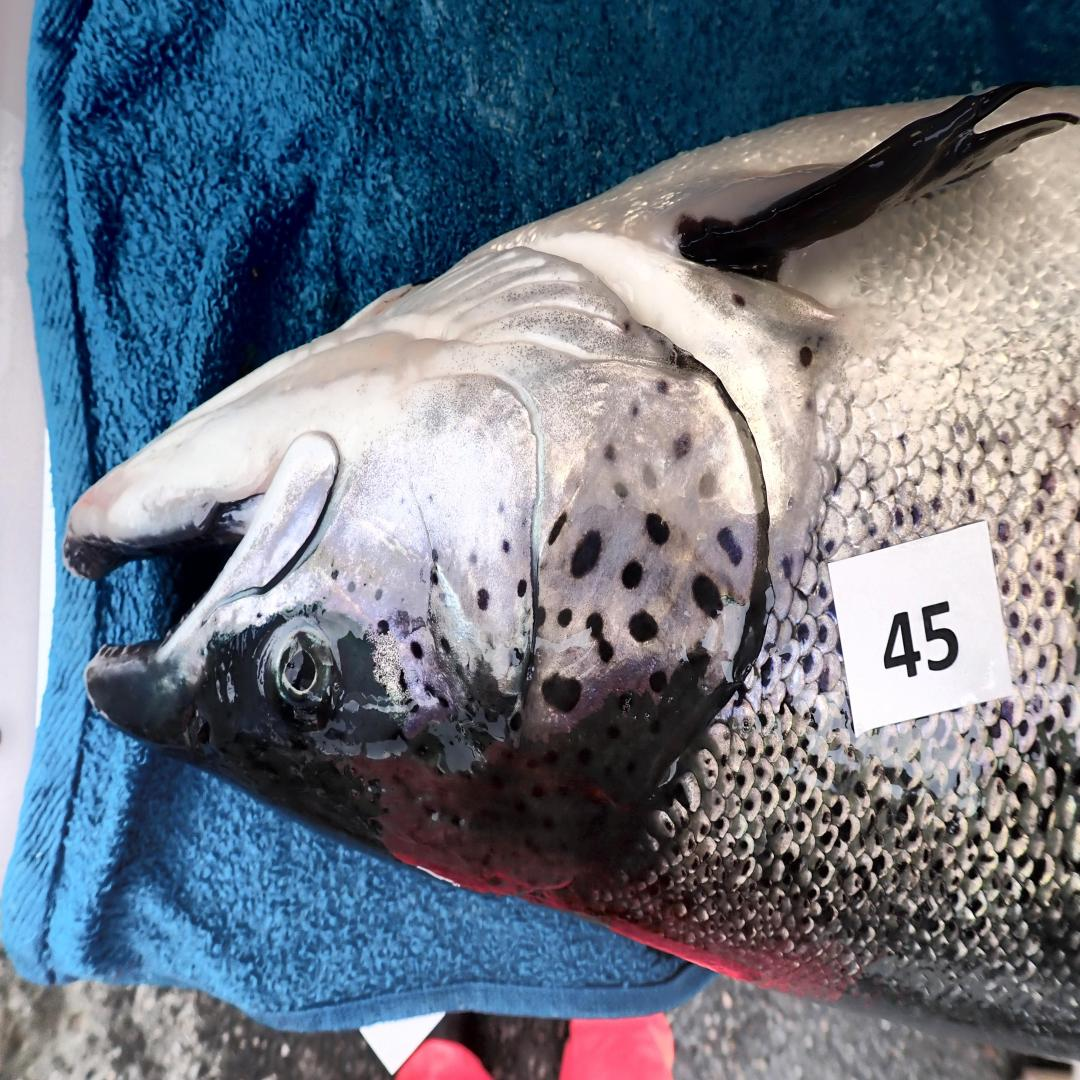spot: (542, 672, 582, 712), (572, 529, 601, 579), (692, 574, 724, 619), (586, 613, 614, 664), (680, 649, 710, 682), (717, 526, 742, 565), (629, 610, 658, 641), (645, 512, 671, 546), (548, 512, 567, 546), (424, 684, 449, 708), (622, 560, 643, 588), (698, 470, 717, 498), (673, 433, 692, 458), (650, 669, 667, 692), (642, 463, 657, 488), (409, 641, 424, 661), (557, 608, 572, 627), (439, 636, 454, 655), (509, 648, 524, 666), (534, 608, 546, 630), (477, 588, 489, 610), (509, 711, 522, 731), (614, 481, 629, 498), (603, 444, 616, 461), (656, 377, 669, 394), (405, 699, 419, 714), (399, 669, 407, 695), (517, 579, 527, 596), (377, 620, 389, 634), (346, 579, 356, 593), (631, 399, 639, 416), (430, 570, 438, 585), (502, 540, 510, 554), (497, 500, 505, 514), (432, 549, 439, 562), (375, 589, 382, 601), (331, 570, 339, 580), (469, 555, 477, 565)
